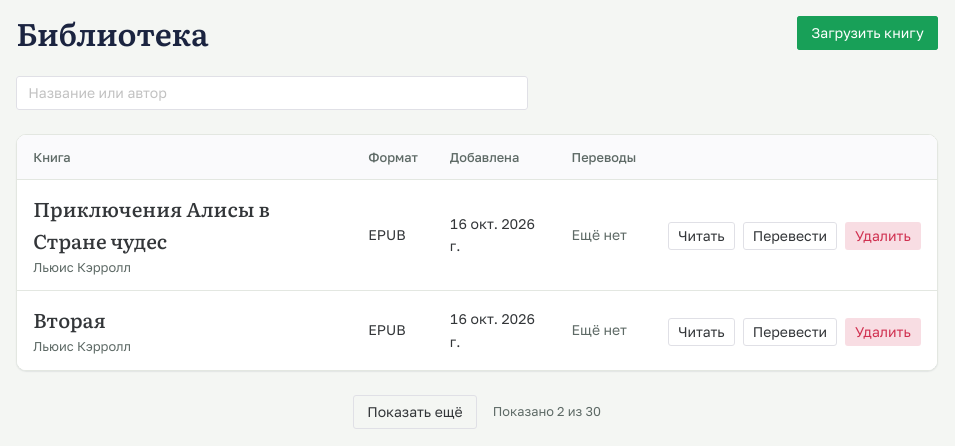
Test: библиотека › удаляет книгу только после подтверждения
The image size is (955, 446).
Click the 1st button with class "danger" at [883, 236], box [845,222,921,250]
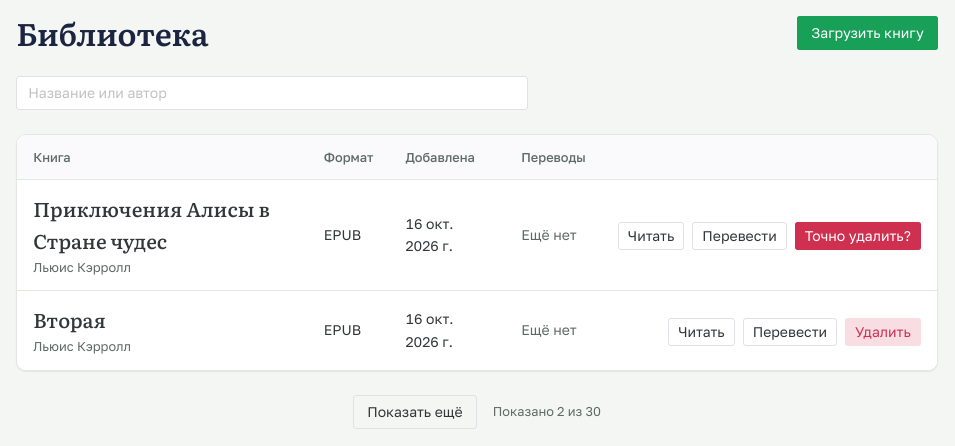
Click the button with class "danger" showing "Точно удалить?" at [858, 236], box [795,222,921,250]
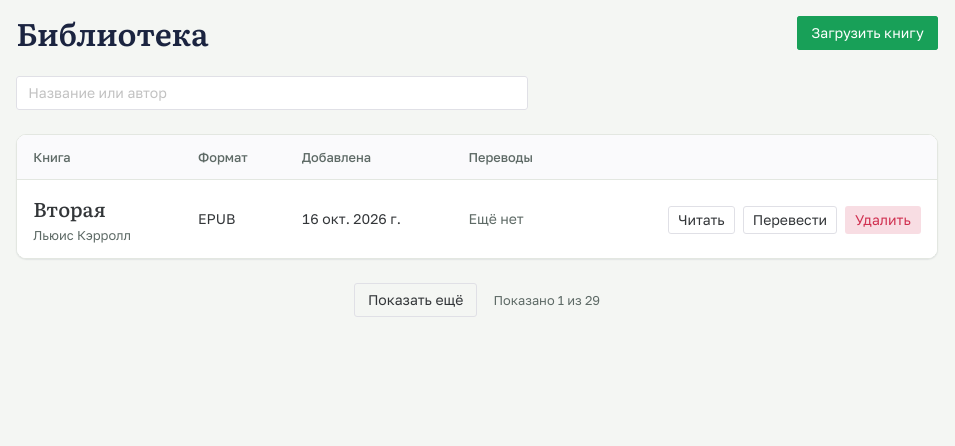
Expected: the element with class "load-more" shows "Показано 1 из 29", [493,292,600,308]
